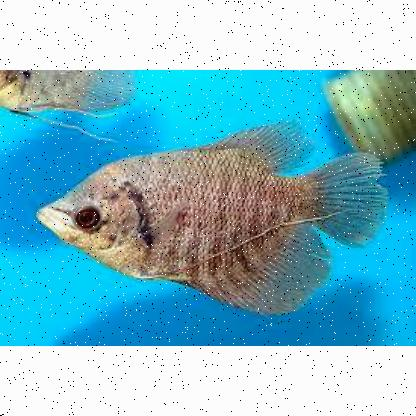gurame: (56, 141, 374, 312)
